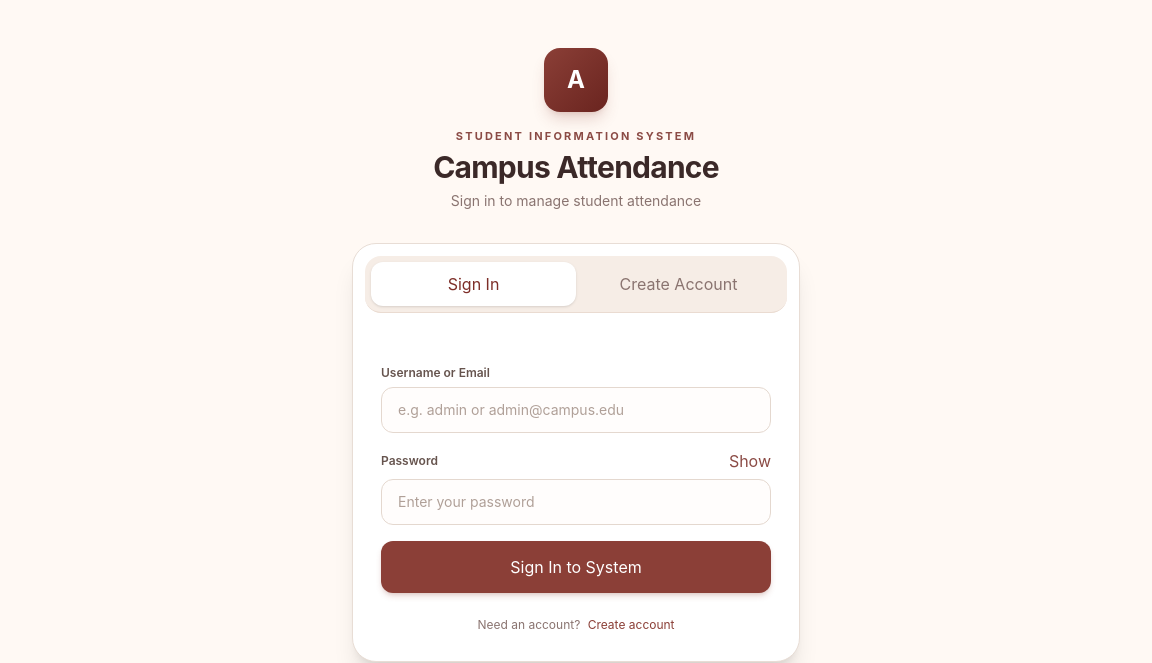
Test: App session integration › logs in from AuthView and enters Dashboard
The width and height of the screenshot is (1152, 663).
Type "admin" into the field named "Username or Email".
click(576, 410); type("admin")  # box [381,386,771,432]
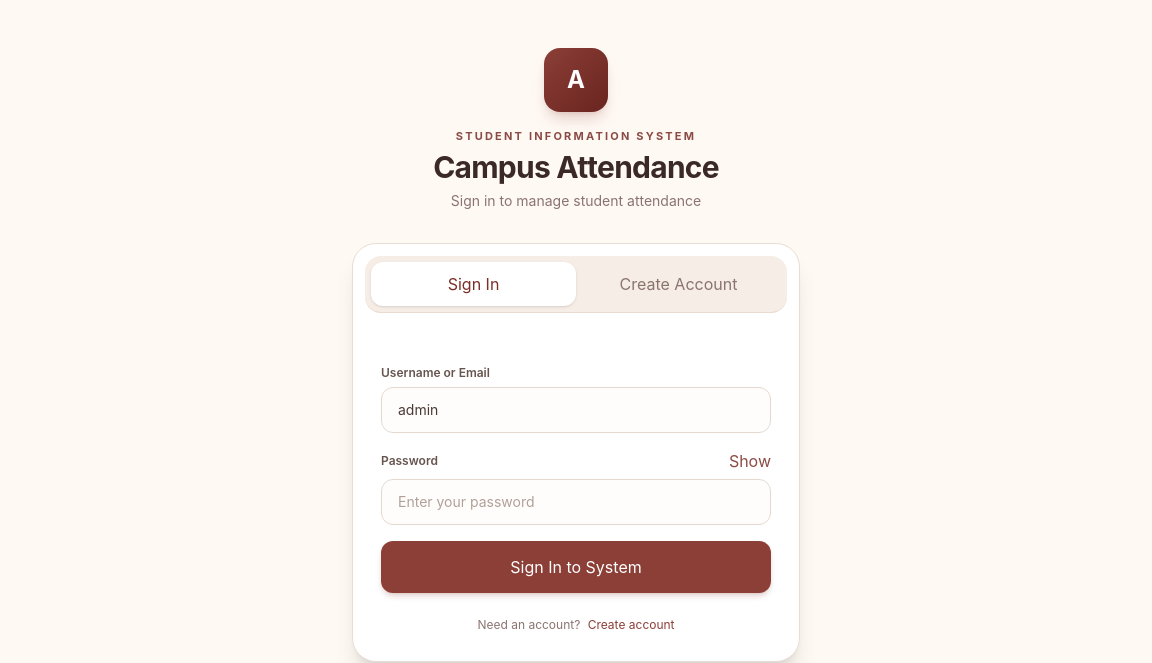
Type "admin123" into the password field named "Password".
click(576, 502); type("admin123")  # box [381,478,771,524]
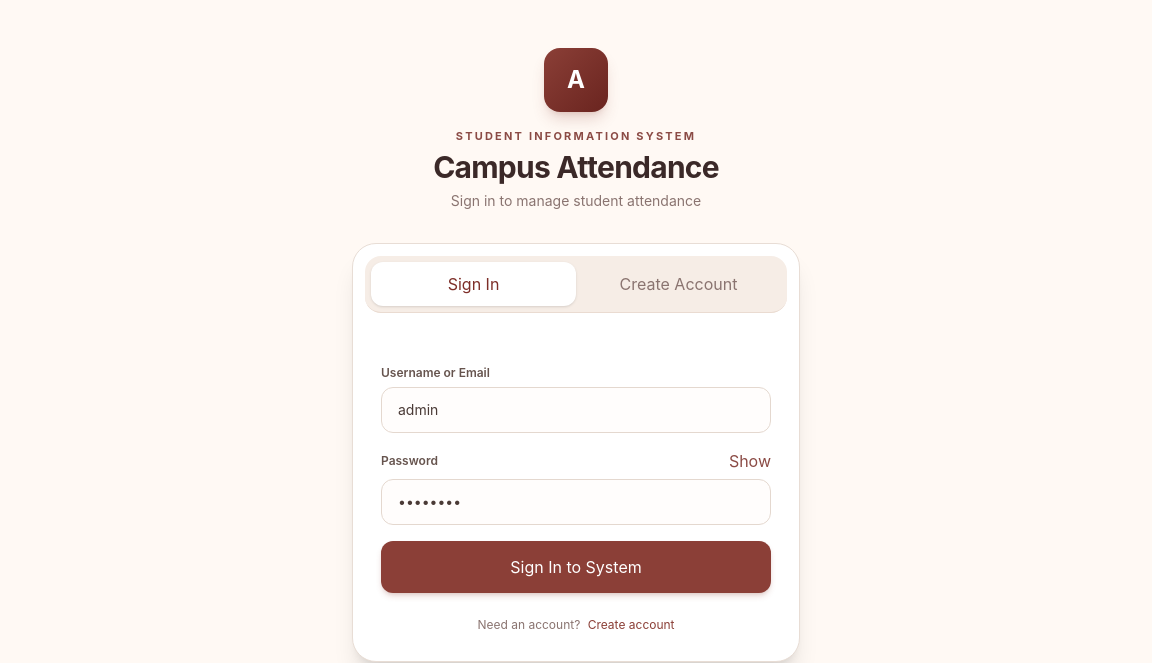
Submit the form, box [381,364,771,592]
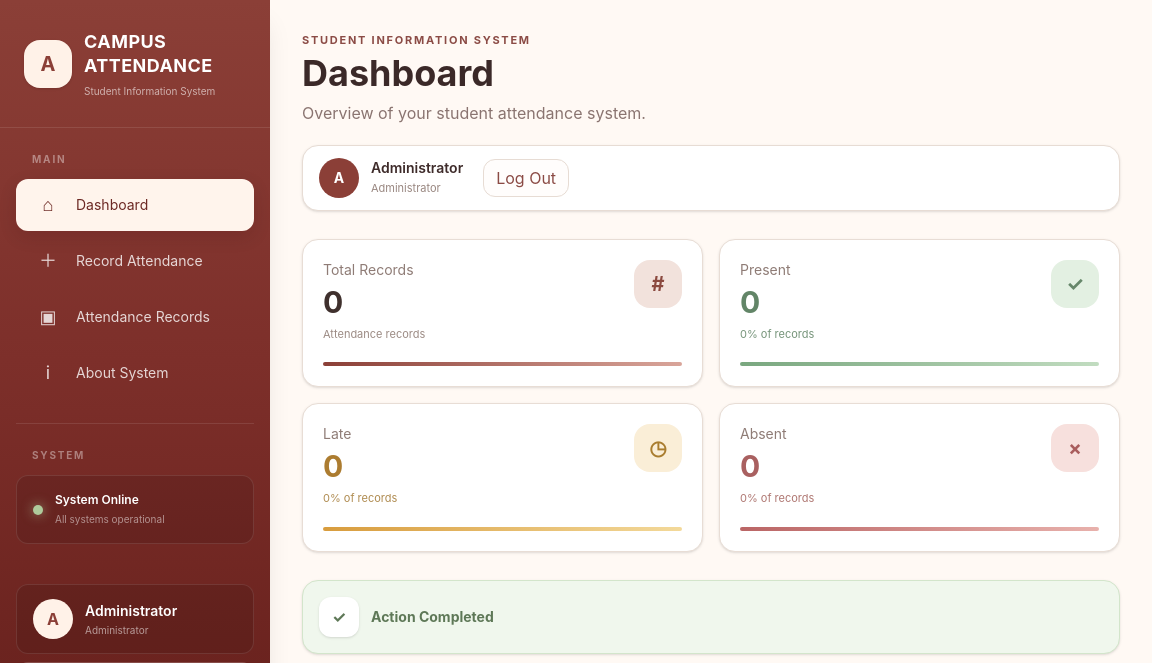
Result: the element with id "dashboard" is shown at [302,32,1120,210]
Result: the text "Administrator" is shown at [85,602,177,618]
